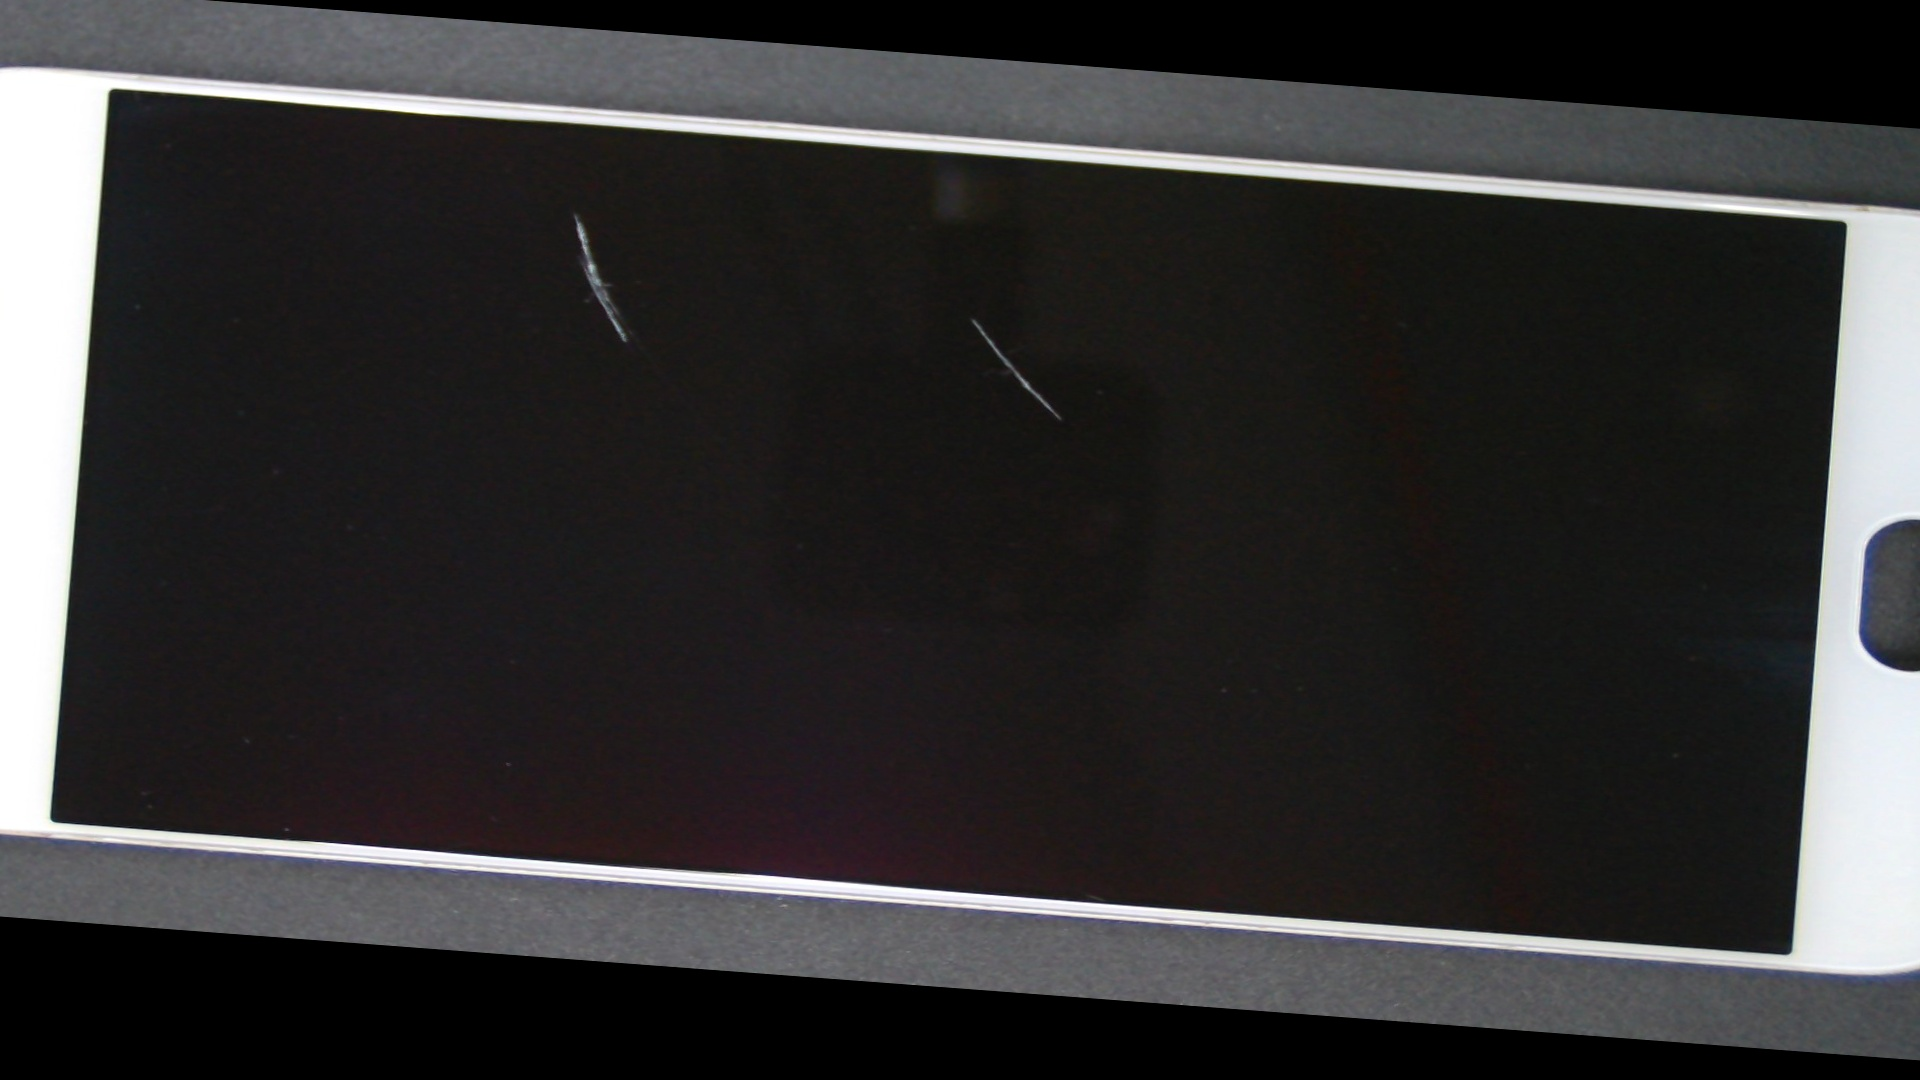oil: (407, 148, 1539, 491), (216, 94, 939, 331)
